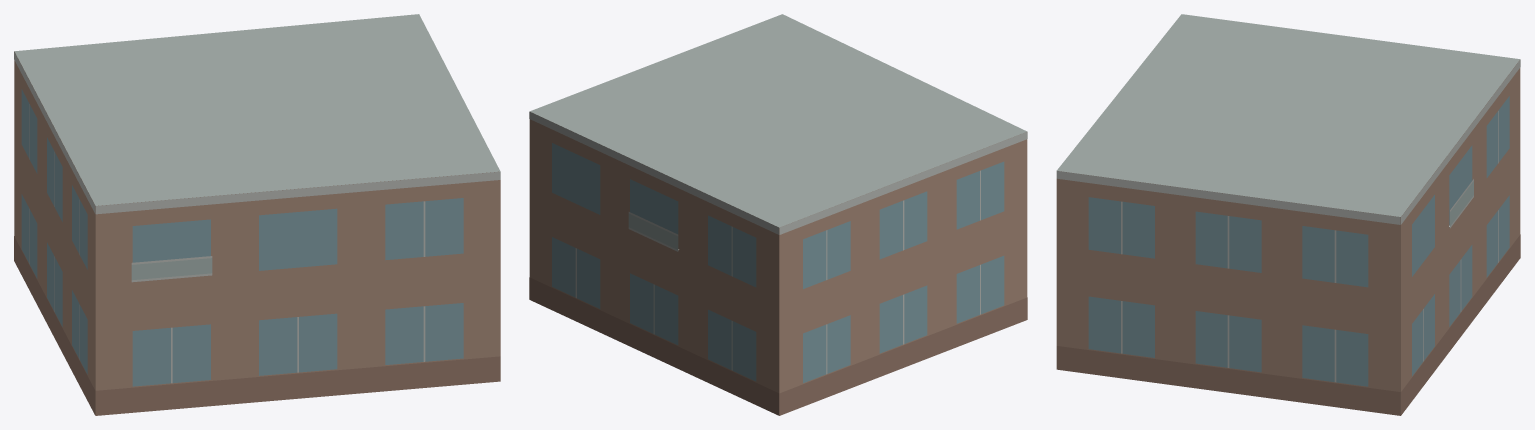
File: survey-upis-32929355.glb
3 views of the same model, side by side, from view 1: azimuth 30°, elevation 25°; view 2: azimuth 150°, elevation 25°; view 3: azimuth 270°, elevation 25° (orthographic). The views are drawn at different scales.
Parts seen in each view (by area): view 1: survey-upis-32929355.tmp; view 2: survey-upis-32929355.tmp; view 3: survey-upis-32929355.tmp.
Boxes of the visible parts, x1,y1,x2,y2 form: survey-upis-32929355.tmp: (14, 14, 500, 415); survey-upis-32929355.tmp: (529, 14, 1027, 415); survey-upis-32929355.tmp: (1056, 14, 1520, 415).
Bounding box in the file's own units: 13.37 × 6.1 × 12.91.
